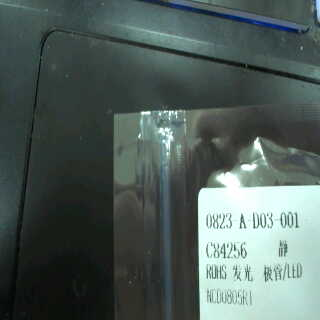LED: (230, 260, 308, 284)
